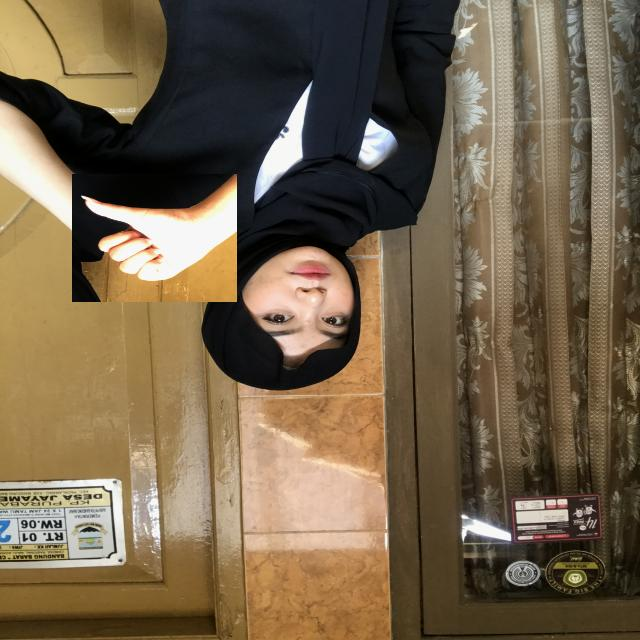sedih: (72, 174, 237, 302)
